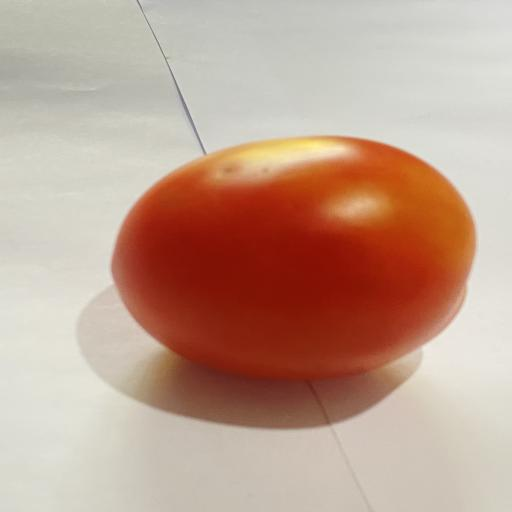ripe: (112, 136, 475, 380)
